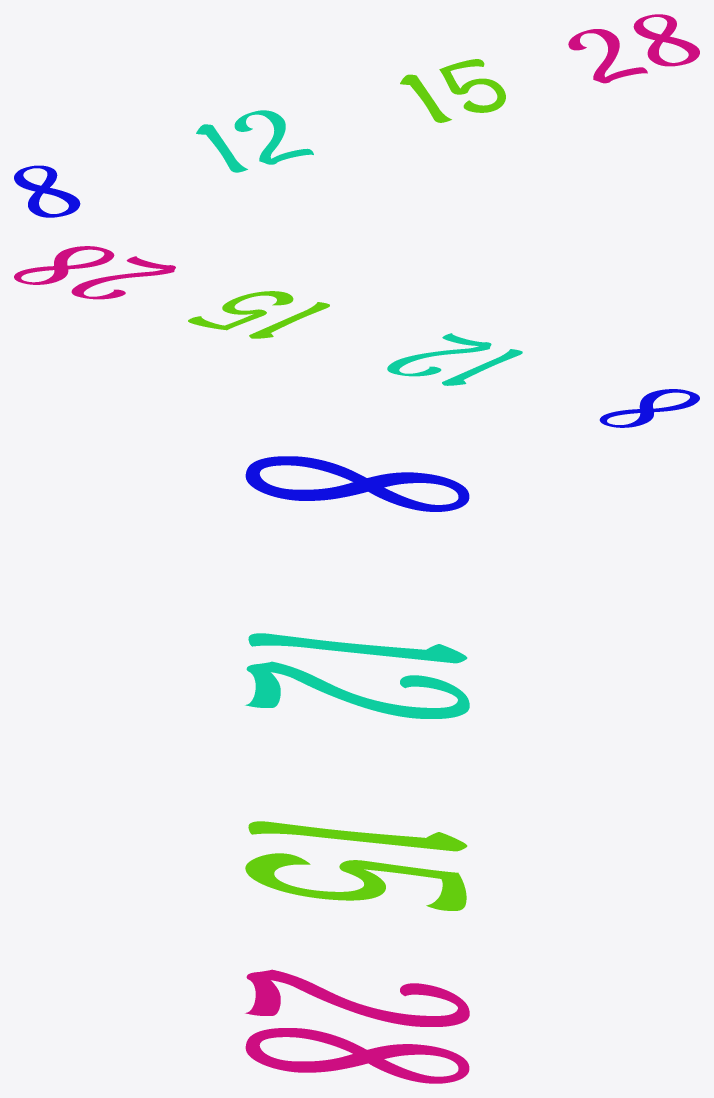
File: Numbers.fbx
3 renders of one model, top to bottom at view 1: azimuth 30°, elevation 25°; view 2: azimuth 150°, elevation 25°; view 3: azimuth 270°, elevation 25°, orthographic. The views are drawn at different scales.
Visible parts, largest first — view 1: Text.003, Text.002, Text.001, Text; view 2: Text.003, Text.002, Text.001, Text; view 3: Text.003, Text.002, Text.001, Text.
Part boxes in pixels (bbox=[...]): Text.003: bbox=[568, 14, 699, 83]; Text.002: bbox=[400, 59, 505, 122]; Text.001: bbox=[196, 110, 313, 172]; Text: bbox=[14, 165, 80, 217]; Text.003: bbox=[14, 246, 175, 299]; Text.002: bbox=[188, 291, 329, 338]; Text.001: bbox=[387, 333, 522, 385]; Text: bbox=[599, 389, 699, 427]; Text.003: bbox=[245, 969, 469, 1083]; Text.002: bbox=[245, 821, 467, 910]; Text.001: bbox=[245, 633, 469, 718]; Text: bbox=[245, 456, 469, 511].
Bounding box in the file's own units: 354 × 0 × 53.77.
